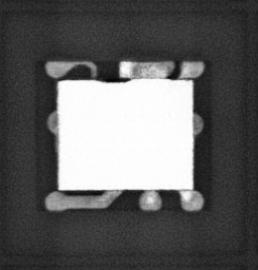DIE_BROKEN: (93, 75, 132, 84)
